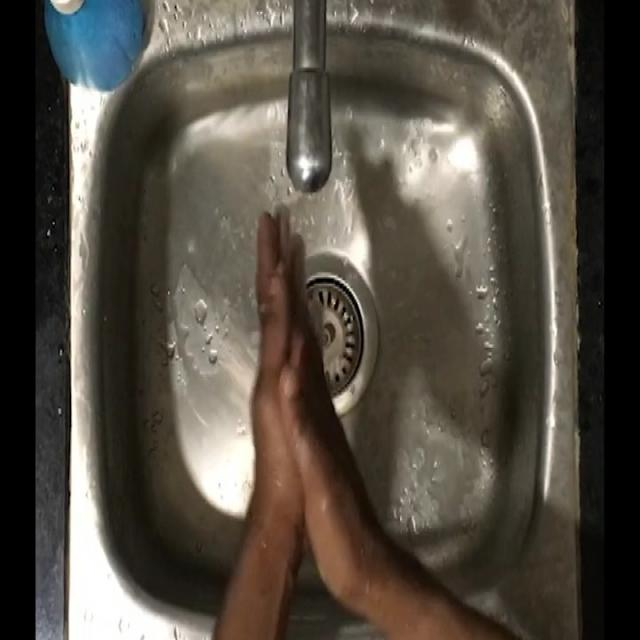step_1: (230, 185, 362, 513)
